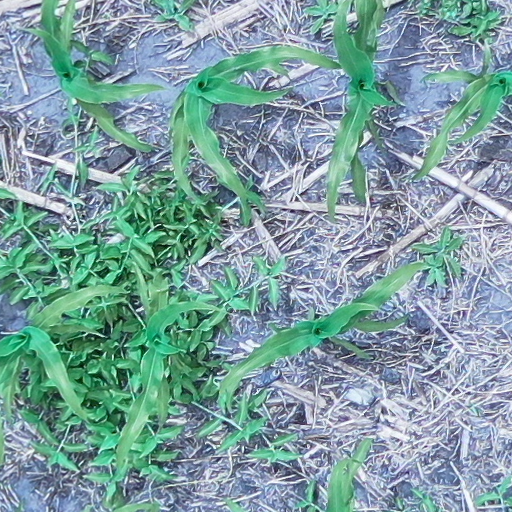planta: (211, 257, 434, 417), (163, 38, 347, 231), (111, 253, 235, 478)
